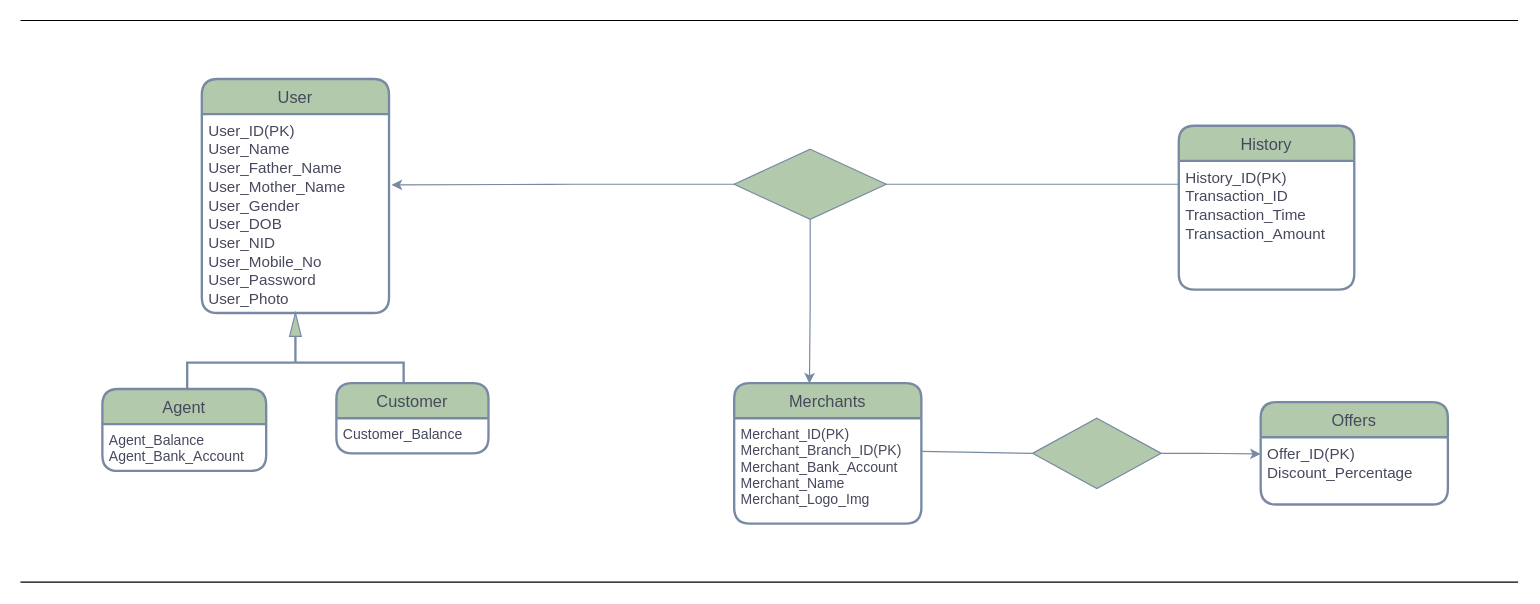
The diagram is 1540 pixels wide and 604 high, and some of its shapes have lost their labels. Each missing label, with the centre of its shape:
Merchant_ Offers: point 1096,452
Merchant_ Payment: point 809,183
